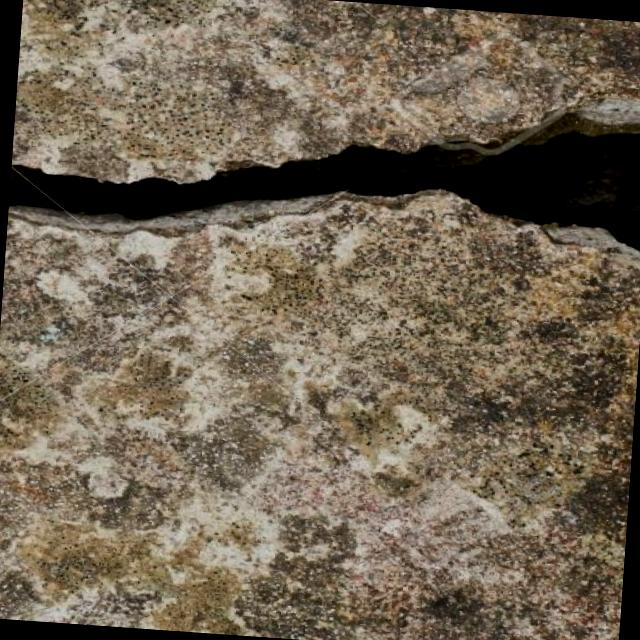spall: (9, 62, 640, 274)
